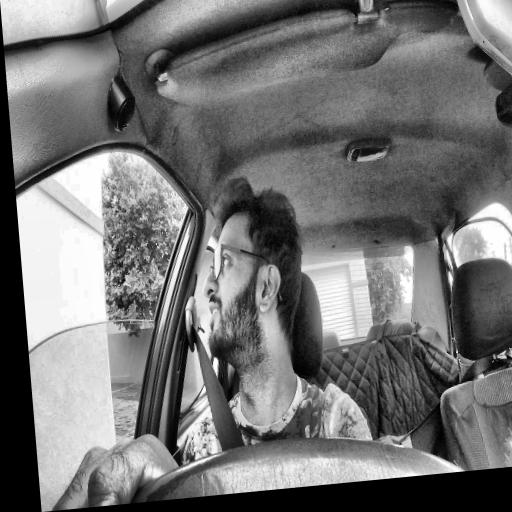awake: (193, 172, 312, 373)
